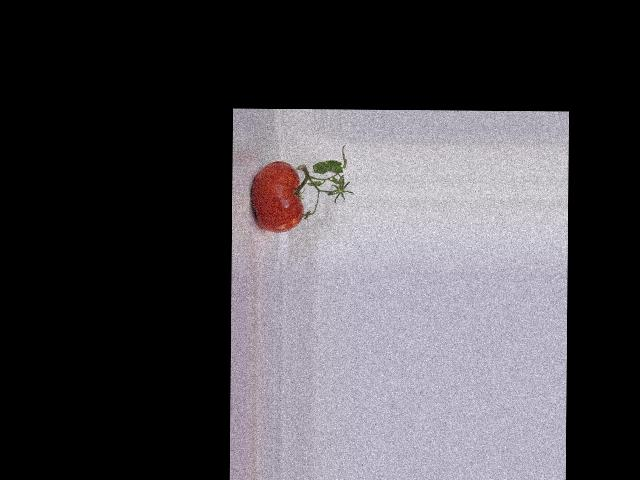tomato: (250, 161, 304, 233)
